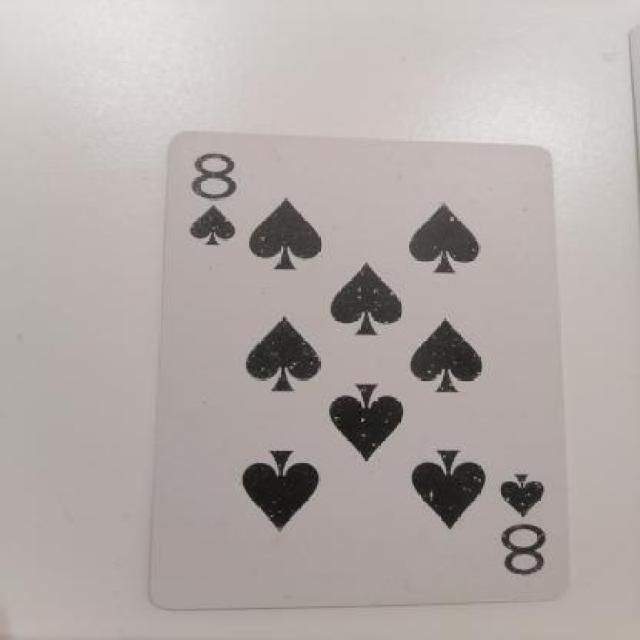8S: (171, 152, 257, 262), (489, 468, 553, 581)
